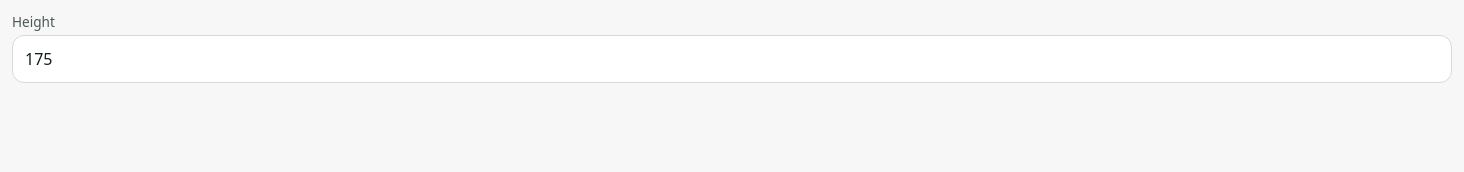
Test: NumberField (autosave mode) › out-of-range input keeps what was typed, shows a message, and is not saved
Later steps or results of the test are not shown.
Replace the text in the field labelled "Height" with "17" at [732, 59], box [12,35,1452,83]
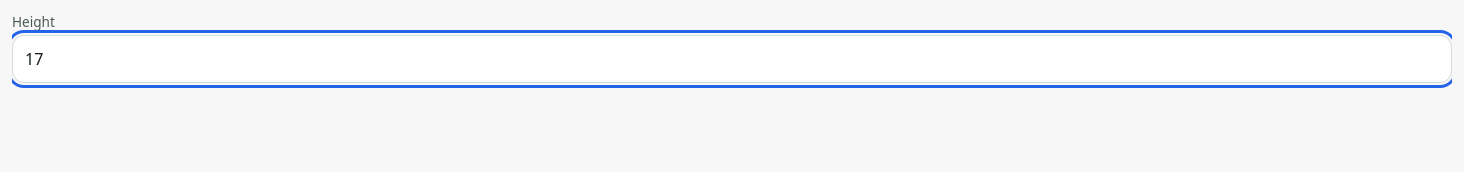
Press Tab
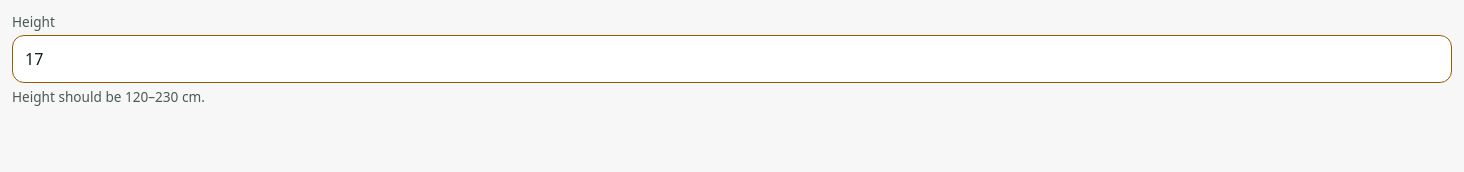
Result: the message reads "Height should be 120–230 cm." at [12,87,205,106]
# Fixing it clears the message and saves.
Type "8" into the field labelled "Height" at [732, 59], box [12,35,1452,83]
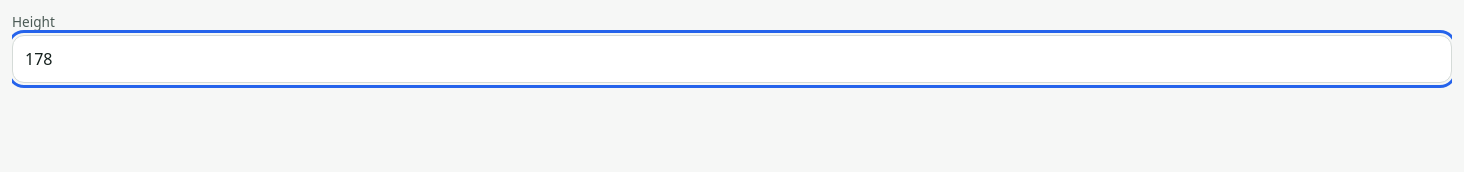
Result: the message "Height should be 120–230 cm." is gone
